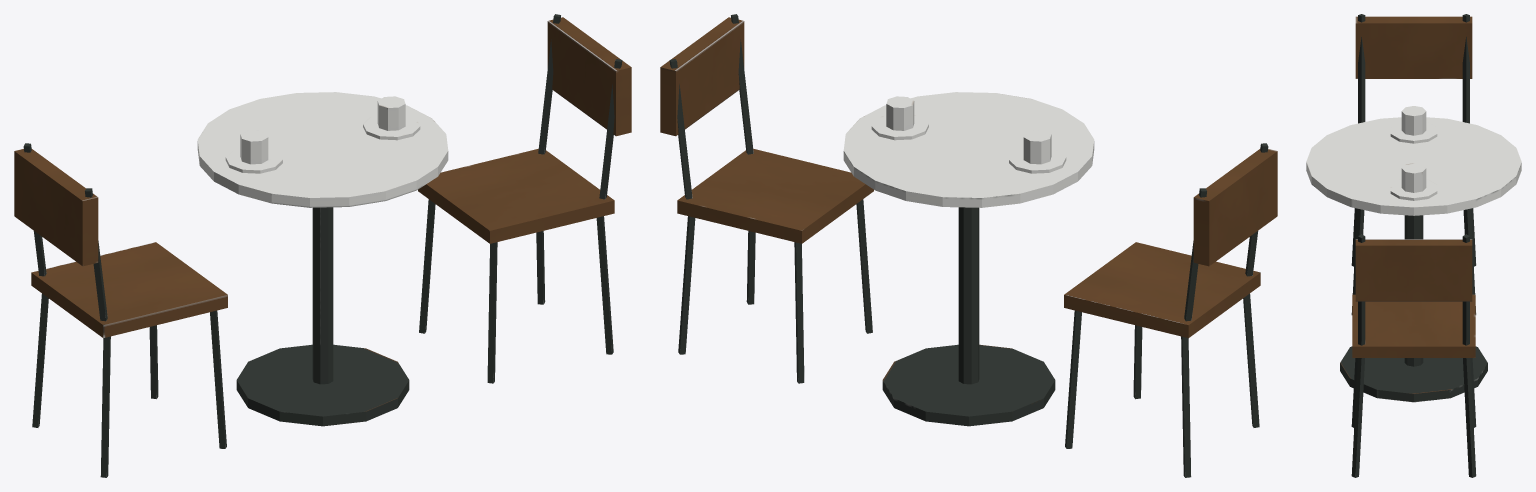
File: stolek_kavarna_efa2faa2.glb
3 views of the same model, side by side, from view 1: azimuth 30°, elevation 25°; view 2: azimuth 150°, elevation 25°; view 3: azimuth 270°, elevation 25° (orthographic). The views are drawn at different scales.
Visible parts, largest first — view 1: dum; view 2: dum; view 3: dum.
Boxes of the visible parts, box(x1,y1,x2,y2) form: dum: box(14, 14, 631, 477); dum: box(660, 14, 1277, 477); dum: box(1306, 14, 1521, 477).
Bounding box in the file's own units: 1.76 × 0.8797 × 0.6982.
Materials: 1 (1 with a texture image).
